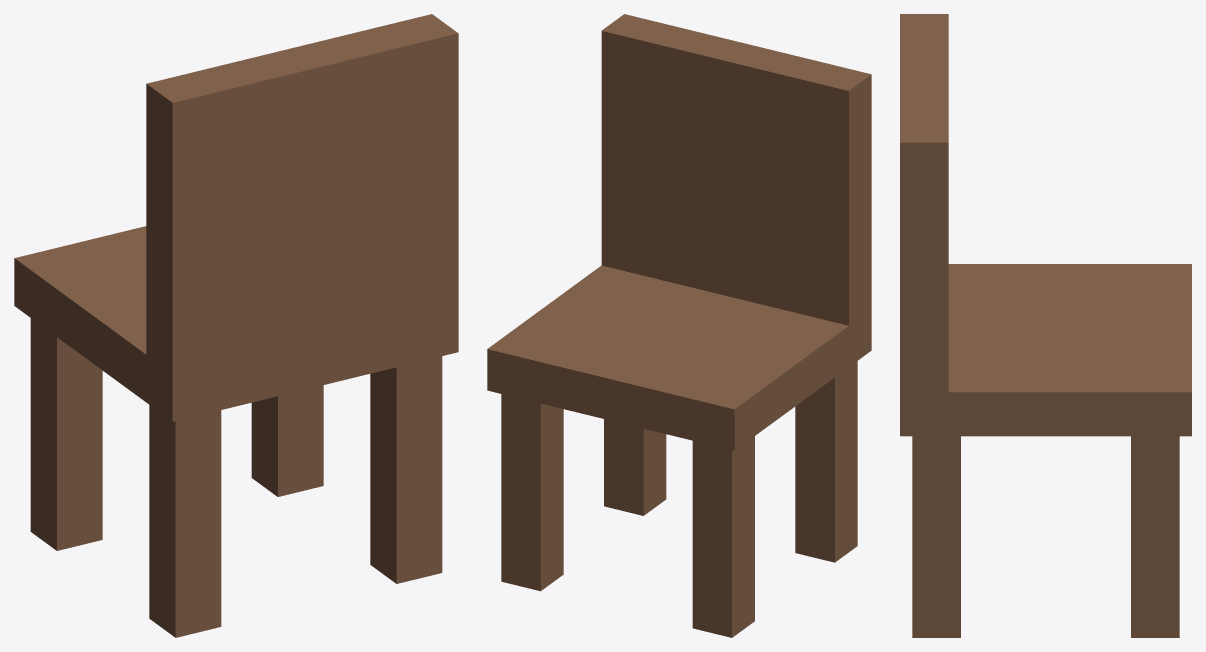
The model's file is chair.glb.
The picture shows the model from 3 angles, left to right: view 1: azimuth 30°, elevation 25°; view 2: azimuth 150°, elevation 25°; view 3: azimuth 270°, elevation 25°; orthographic projection. The views are drawn at different scales.
Visible parts, largest first — view 1: chair; view 2: chair; view 3: chair.
Part boxes in pixels (<box>): chair: <box>14,14,458,637</box>; chair: <box>487,14,871,637</box>; chair: <box>900,14,1191,637</box>.
Size of the model in its own units: 0.75 by 1.36 by 0.72.
